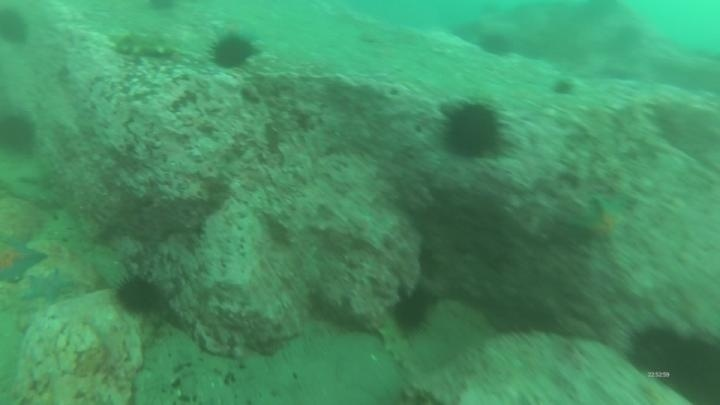echinus: (624, 322, 715, 398), (437, 97, 509, 162), (112, 272, 165, 317), (390, 288, 433, 335), (208, 31, 258, 71), (0, 109, 39, 157), (0, 6, 32, 49), (477, 30, 514, 59), (549, 76, 577, 98)
holothurian: (374, 316, 426, 379), (106, 26, 184, 62)
starfish: (570, 192, 636, 251), (0, 233, 47, 286), (20, 267, 77, 306)
